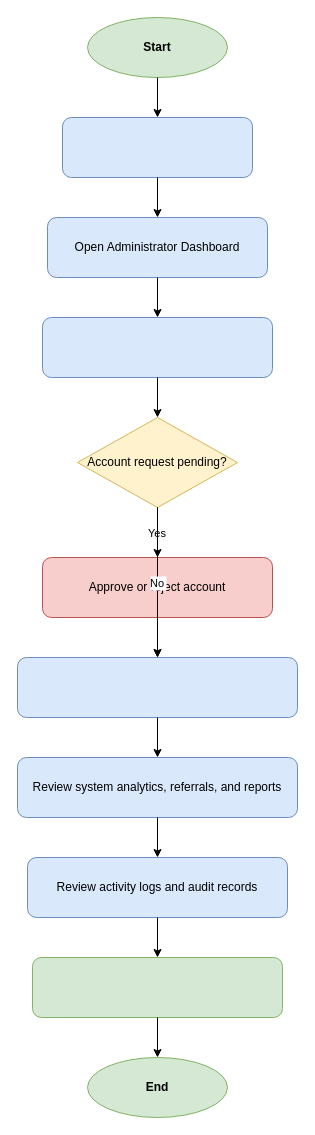
This 315x1135 diagram has some shape labels left out. Each missing label, with the centre of its shape:
Configure needs-assessment form and fields: the point at 157,687
Export or generate institutional report: the point at 157,987
Log in and authenticate: the point at 157,147
Review and manage user accounts: the point at 157,347
